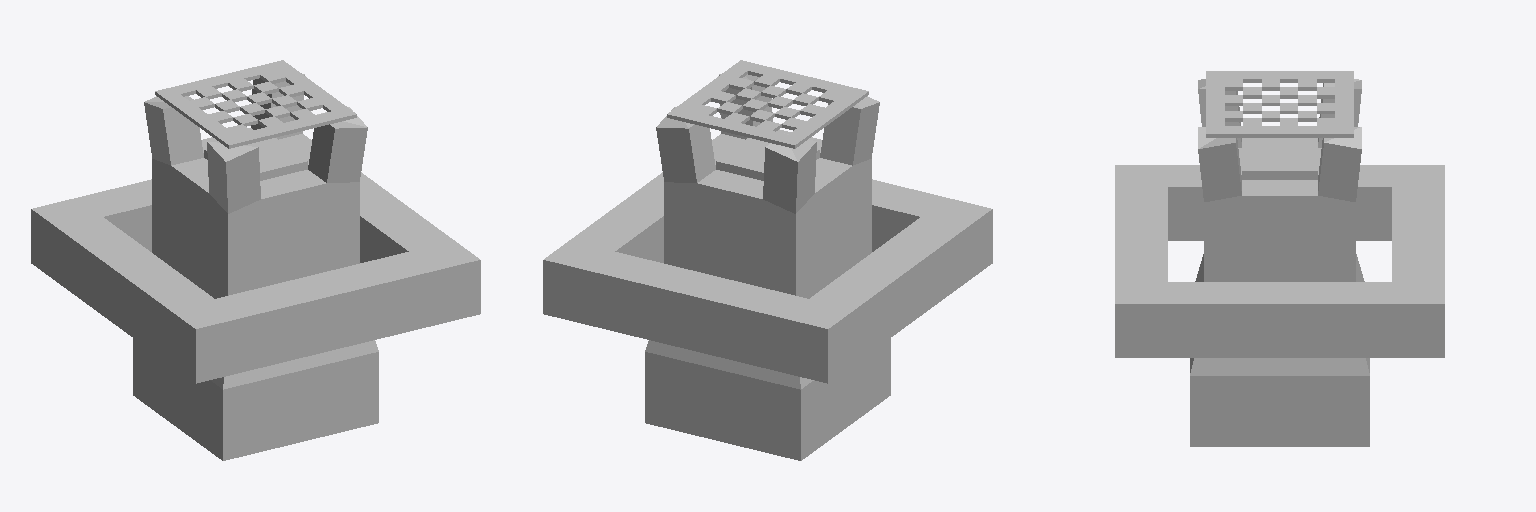
The model's file is burnerPlate.obj.
The picture shows the model from 3 angles: view 1: azimuth 30°, elevation 25°; view 2: azimuth 150°, elevation 25°; view 3: azimuth 270°, elevation 25°; orthographic projection.
Visible parts, largest first — view 1: Middle, Ring, Plate; view 2: Middle, Ring, Plate; view 3: Ring, Middle, Plate.
Part boxes in pixels (left/top/right/bottom): Middle: left=133, top=73, right=378, bottom=460; Ring: left=31, top=172, right=480, bottom=383; Plate: left=155, top=60, right=356, bottom=148; Middle: left=645, top=73, right=890, bottom=460; Ring: left=543, top=172, right=992, bottom=383; Plate: left=667, top=60, right=868, bottom=148; Ring: left=1115, top=165, right=1444, bottom=357; Middle: left=1190, top=79, right=1369, bottom=446; Plate: left=1206, top=71, right=1353, bottom=137.
Size of the model in its own units: 0.904 by 0.9291 by 0.904.